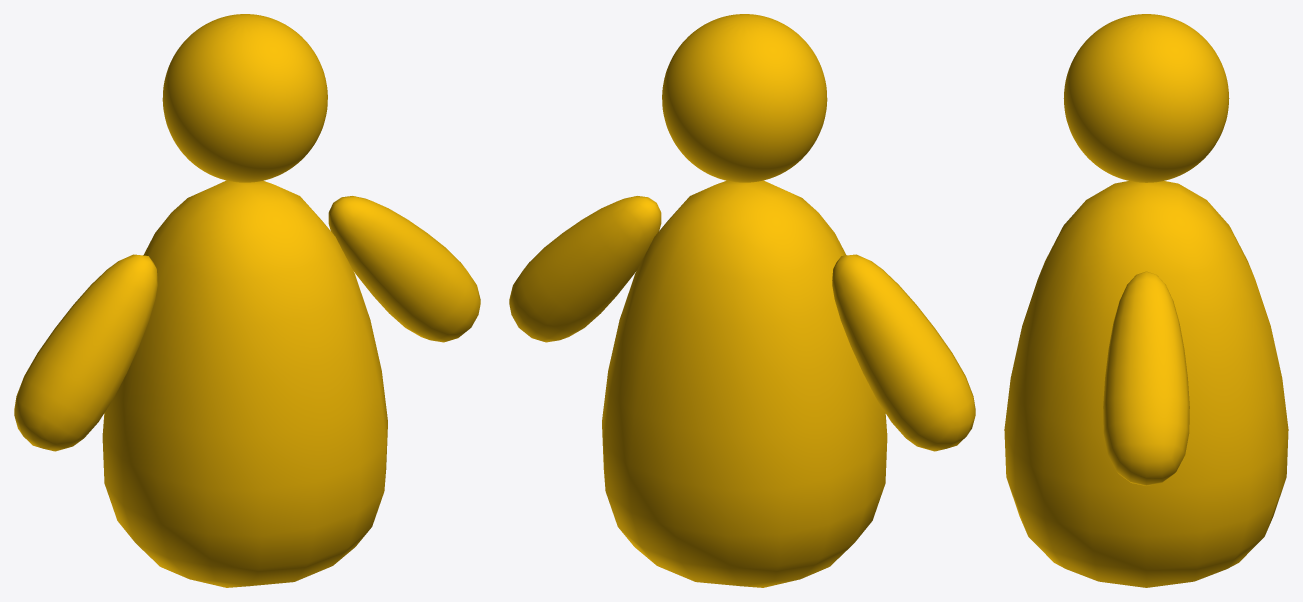
Rendered from learn_npc.glb.
3 views of the same model, side by side, from view 1: azimuth 30°, elevation 25°; view 2: azimuth 150°, elevation 25°; view 3: azimuth 270°, elevation 25° (orthographic).
Parts seen in each view (by area): view 1: Learn NPC; view 2: Learn NPC; view 3: Learn NPC.
Part boxes in pixels (x1,y1,x2,y2): Learn NPC: (14, 14, 480, 587); Learn NPC: (509, 14, 975, 587); Learn NPC: (1004, 14, 1288, 587).
Size of the model in its own units: 1.48 by 1.7 by 0.7986.
